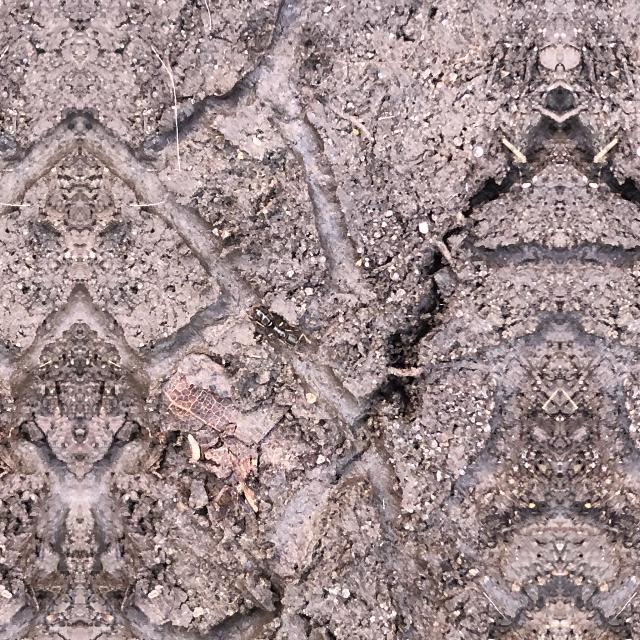Ponera: (236, 296, 314, 358)
